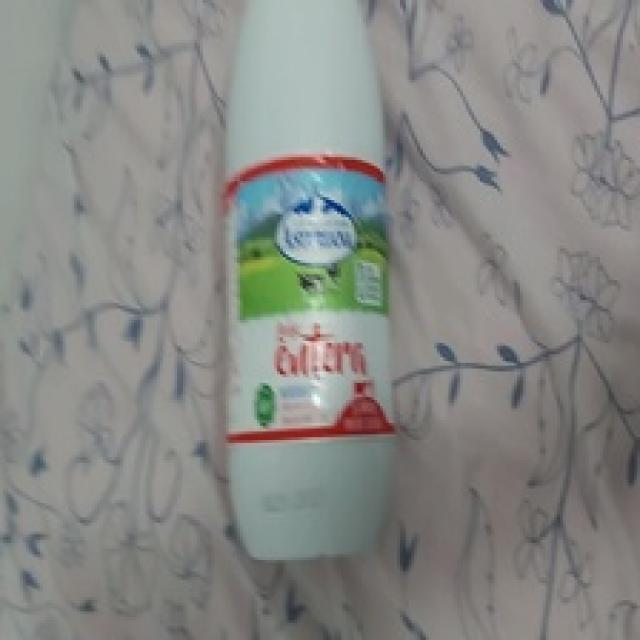Plastic: (224, 0, 393, 556)
